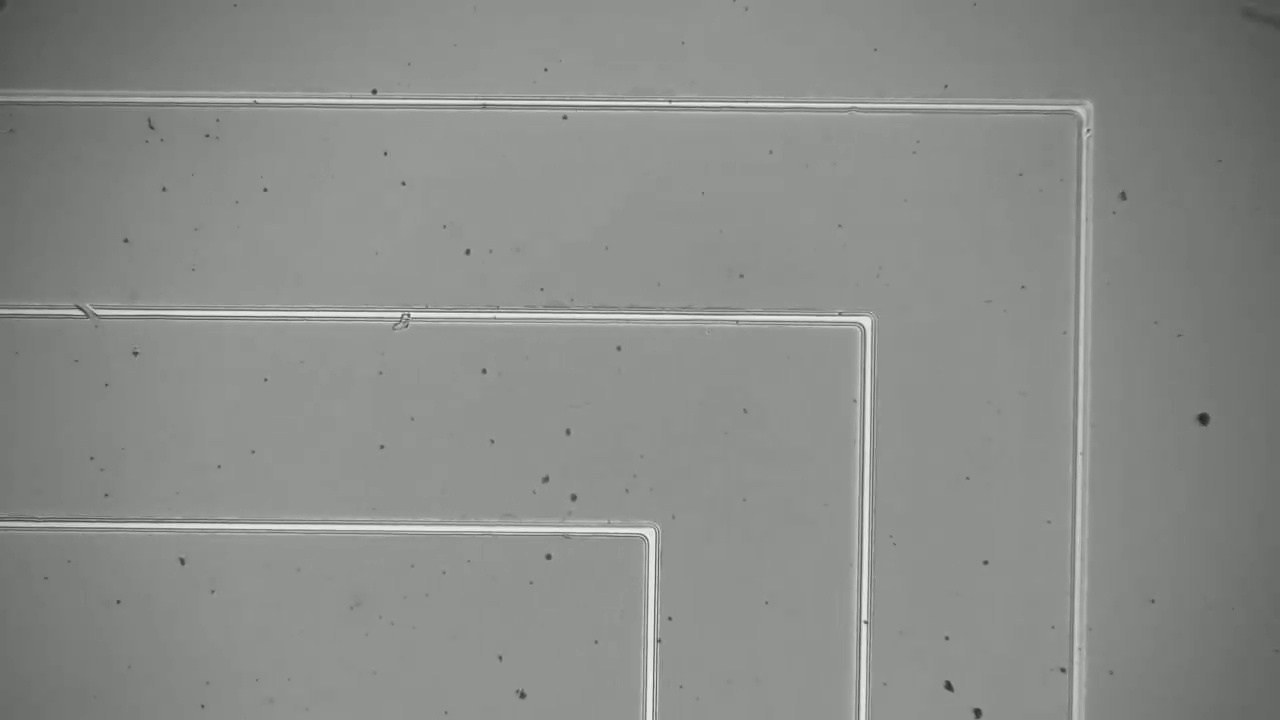open: (62, 293, 102, 336)
stains_enbedded: (383, 299, 420, 342)
